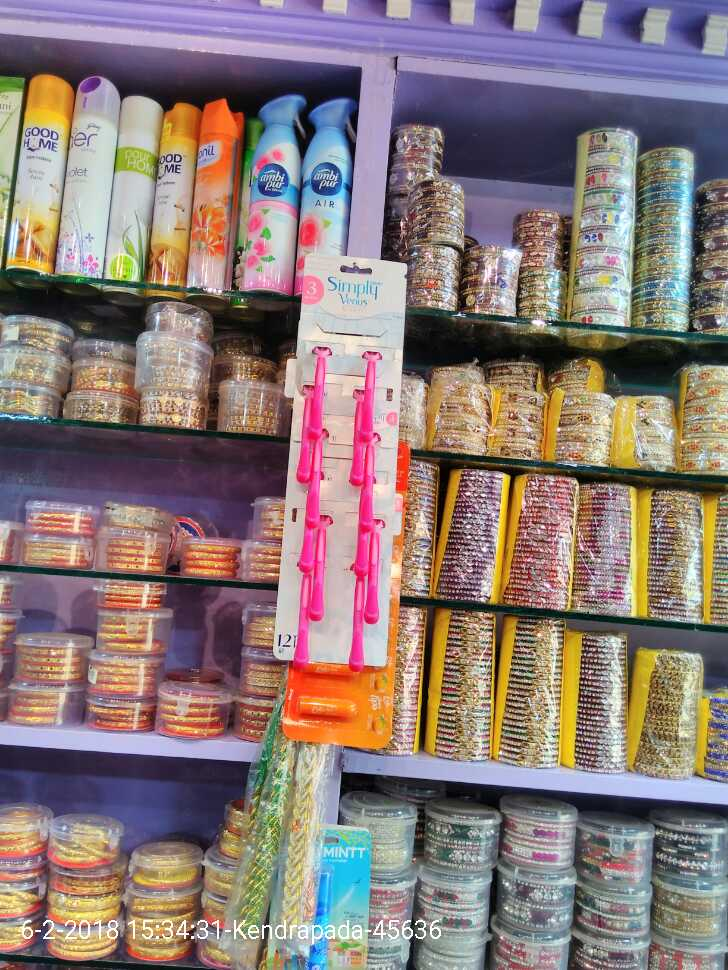ambipure: (238, 90, 299, 298), (294, 93, 352, 290)
